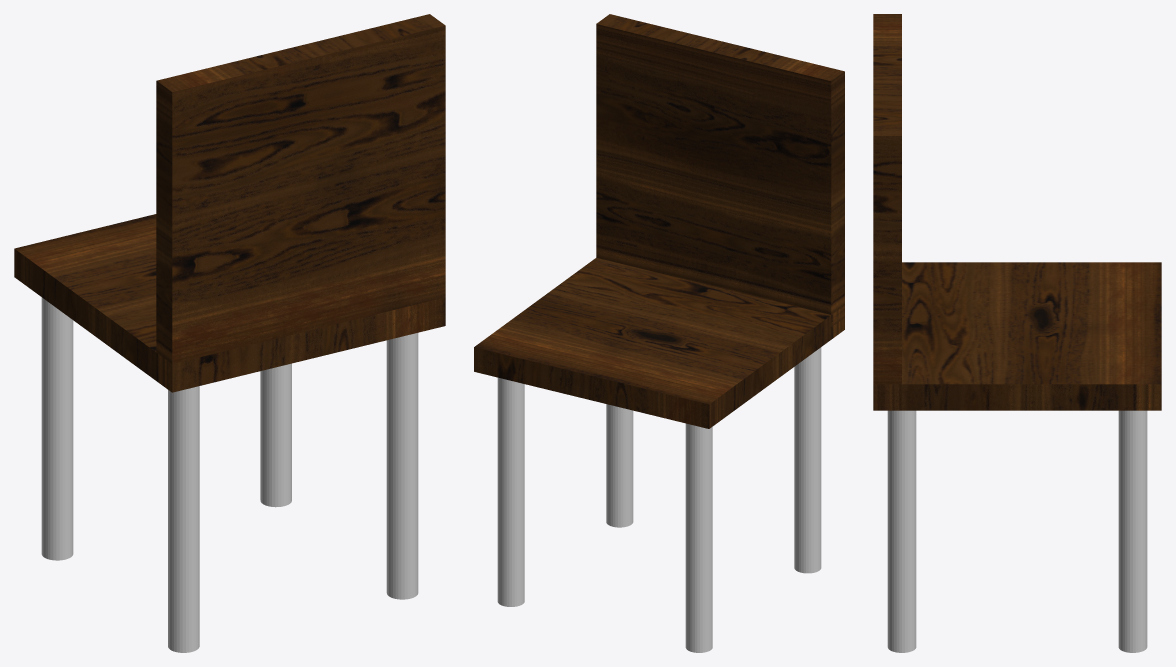
Rendered from Chair.fbx.
3 renders of one model, left to right at view 1: azimuth 30°, elevation 25°; view 2: azimuth 150°, elevation 25°; view 3: azimuth 270°, elevation 25°, orthographic. The views are drawn at different scales.
Parts seen in each view (by area): view 1: Chair; view 2: Chair; view 3: Chair.
Part boxes in pixels (x1=…): Chair: x1=14, y1=14, x2=445, y2=652; Chair: x1=474, y1=14, x2=844, y2=652; Chair: x1=873, y1=14, x2=1161, y2=652.
Size of the model in its own units: 100 by 200 by 100.
2 materials, 1 textured.
